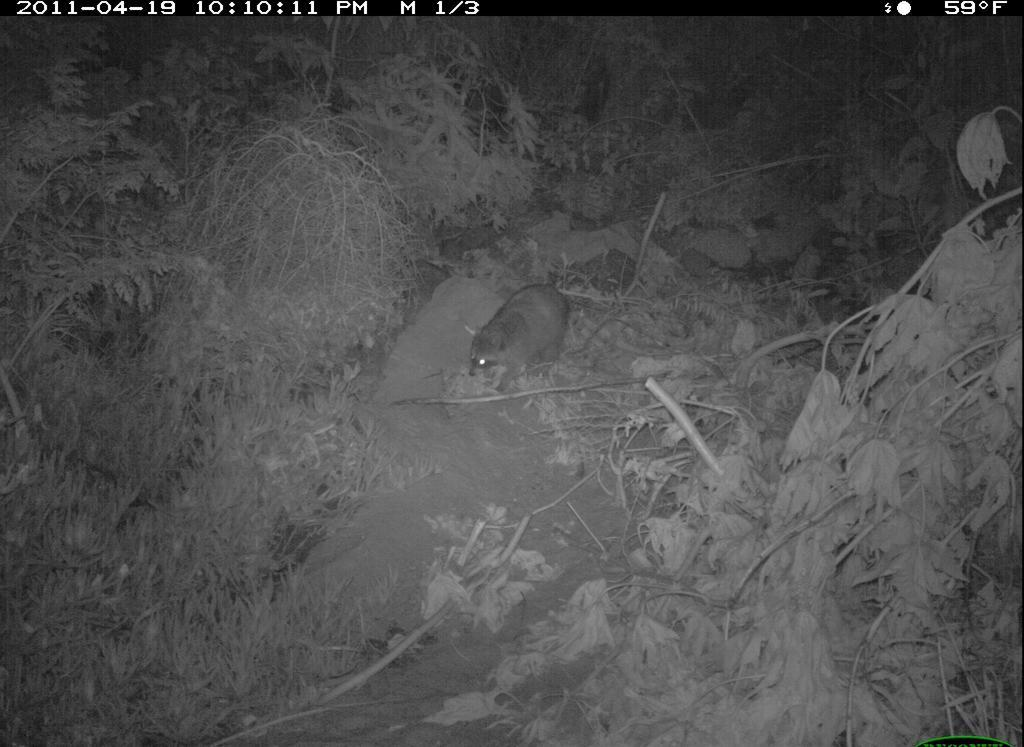raccoon: (459, 269, 597, 404)
